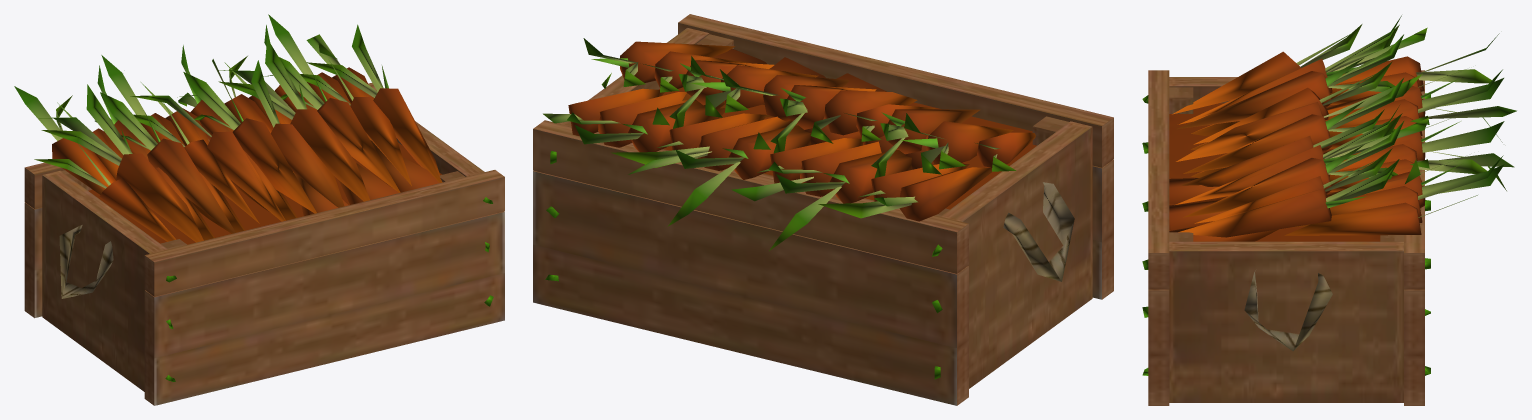
The model's file is FarmCrate_Carrot.medium.gltf.
3 renders of one model, left to right at view 1: azimuth 30°, elevation 25°; view 2: azimuth 150°, elevation 25°; view 3: azimuth 270°, elevation 25°, orthographic. The views are drawn at different scales.
Visible parts, largest first — view 1: FarmCrate_Carrot; view 2: FarmCrate_Carrot; view 3: FarmCrate_Carrot.
Part boxes in pixels (box(x1,y1,x2,y2)): FarmCrate_Carrot: box(14, 14, 504, 405); FarmCrate_Carrot: box(533, 14, 1113, 405); FarmCrate_Carrot: box(1142, 15, 1516, 405).
Size of the model in its own units: 0.7073 by 0.3813 by 0.5382.
3 materials, 3 textured.
